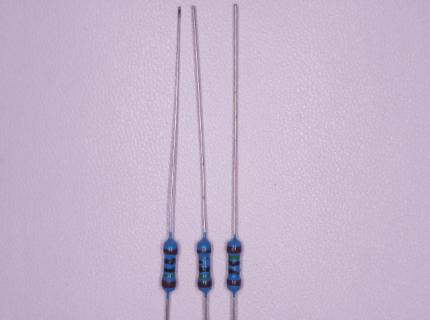Black band: (228, 269, 240, 275), (199, 266, 211, 272), (164, 259, 176, 264), (229, 261, 240, 266), (164, 267, 175, 272), (198, 260, 211, 264)
Brown band: (162, 280, 176, 288), (227, 246, 242, 253), (163, 248, 178, 255), (227, 279, 241, 286), (197, 281, 212, 287), (197, 249, 211, 254)
Green band: (163, 274, 175, 278), (199, 275, 211, 279), (229, 256, 240, 259)
